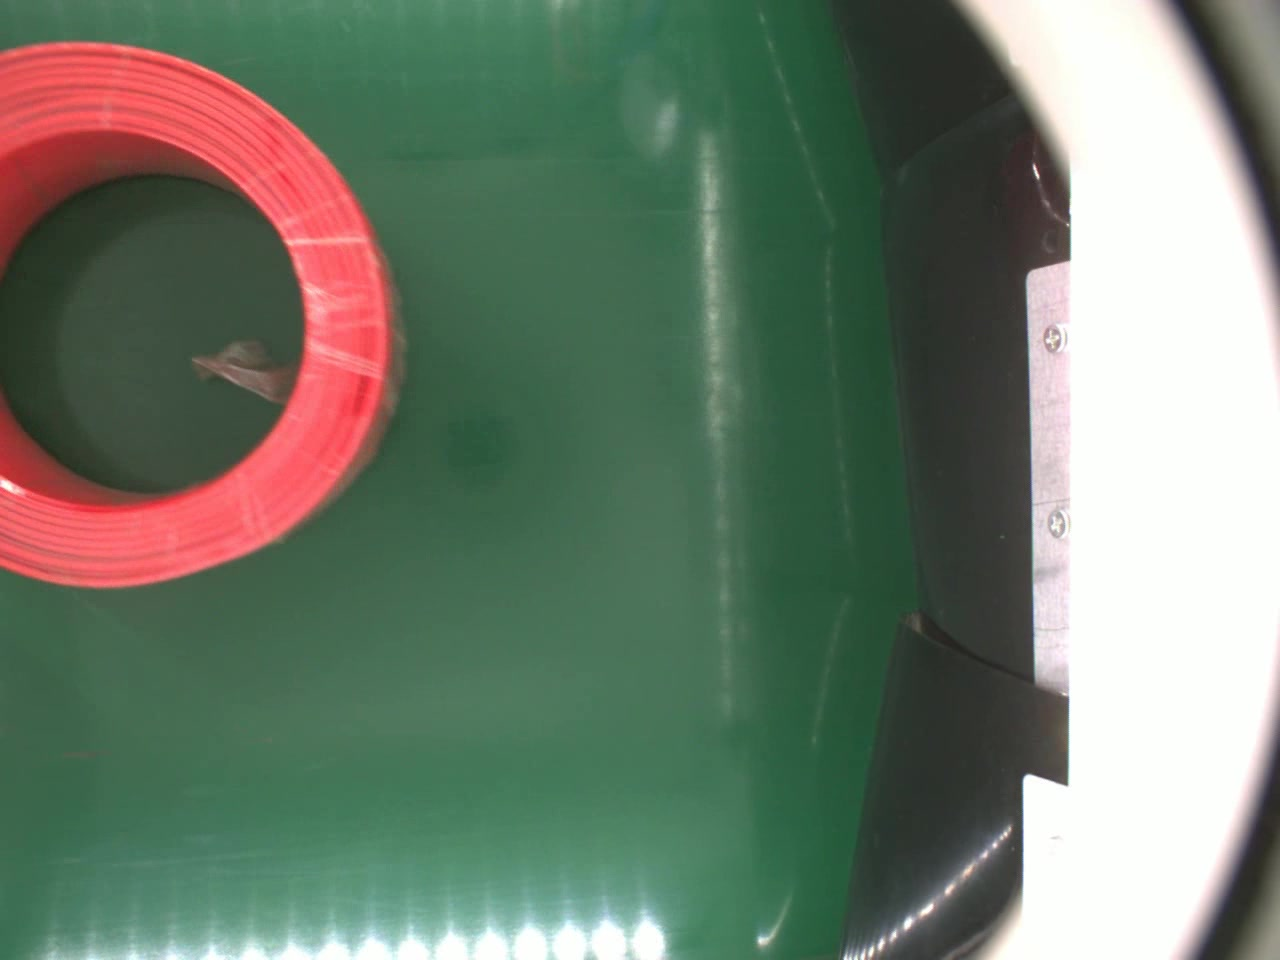red: (0, 40, 411, 591)
